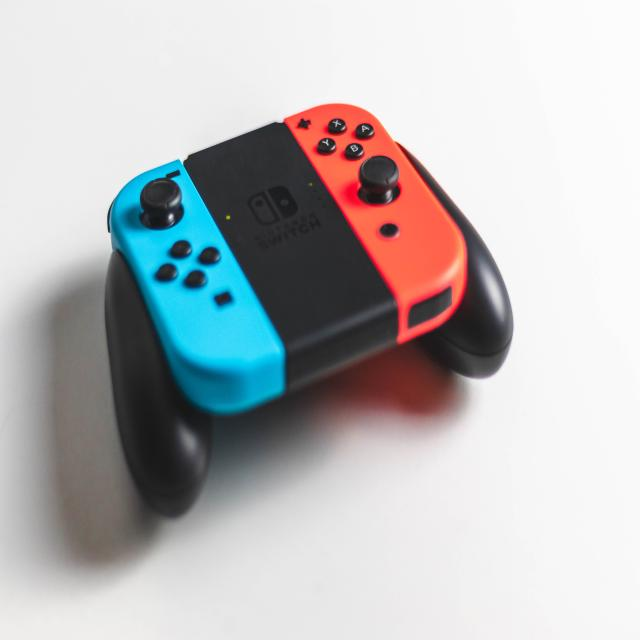Plastic: (103, 103, 514, 523)
